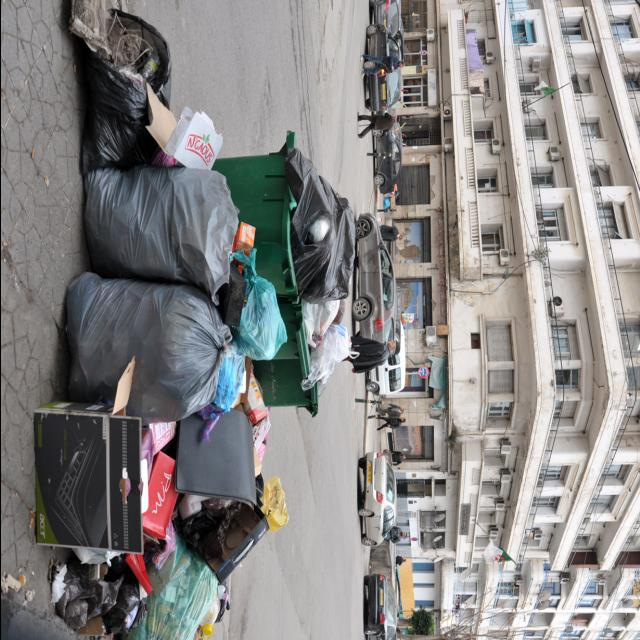garbage: (0, 0, 361, 640)
